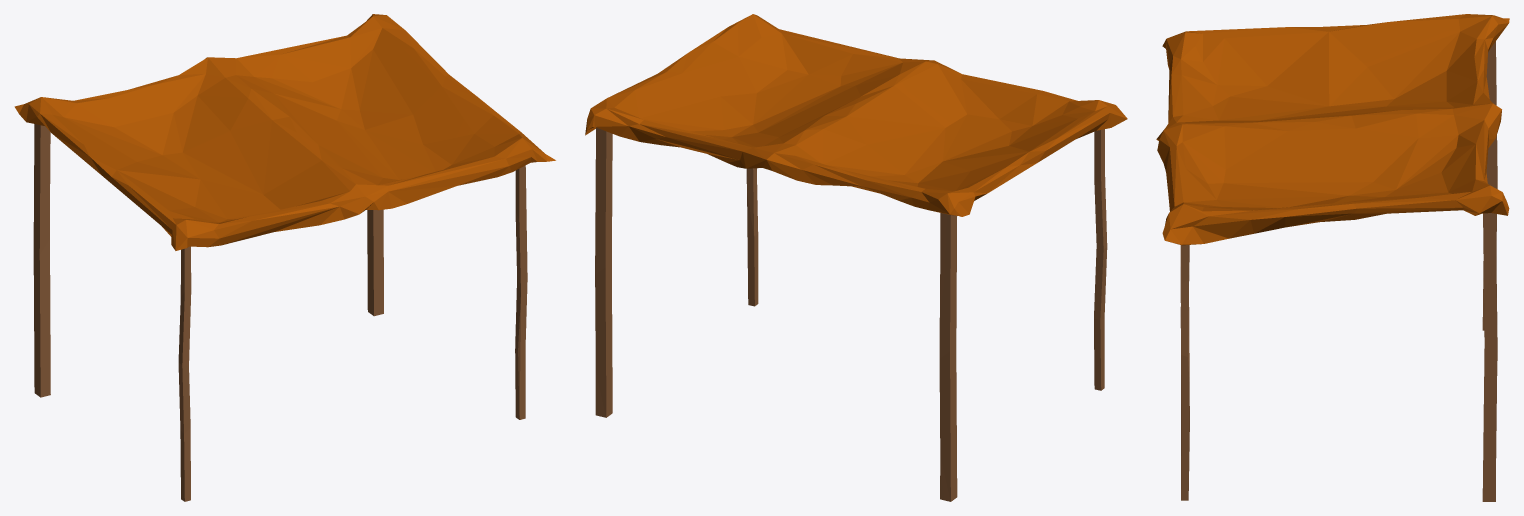
File: Market_Roof_02.fbx
3 renders of one model, left to right at view 1: azimuth 30°, elevation 25°; view 2: azimuth 150°, elevation 25°; view 3: azimuth 270°, elevation 25°, orthographic. The views are drawn at different scales.
Parts seen in each view (by area): view 1: Market_Roof_02; view 2: Market_Roof_02; view 3: Market_Roof_02.
Boxes of the visible parts, x1,y1,x2,y2 form: Market_Roof_02: (14,14,555,501); Market_Roof_02: (585,14,1127,501); Market_Roof_02: (1156,14,1509,501).
Bounding box in the file's own units: 272 × 203 × 208.
